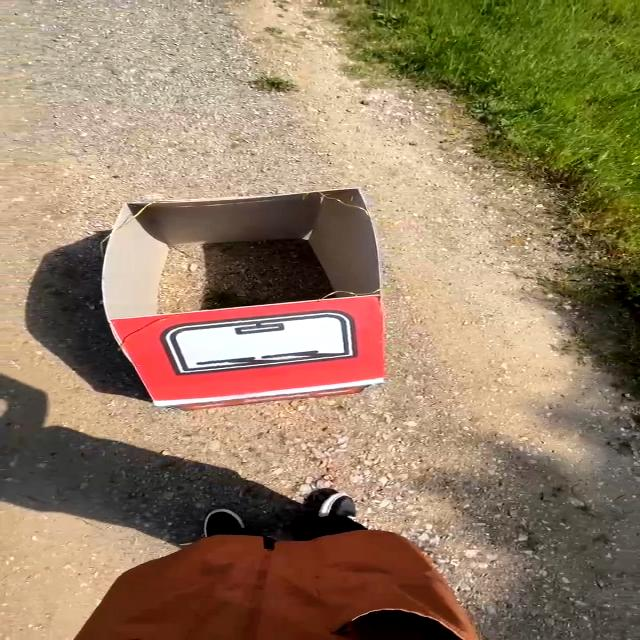red_car: (0, 138, 446, 453)
